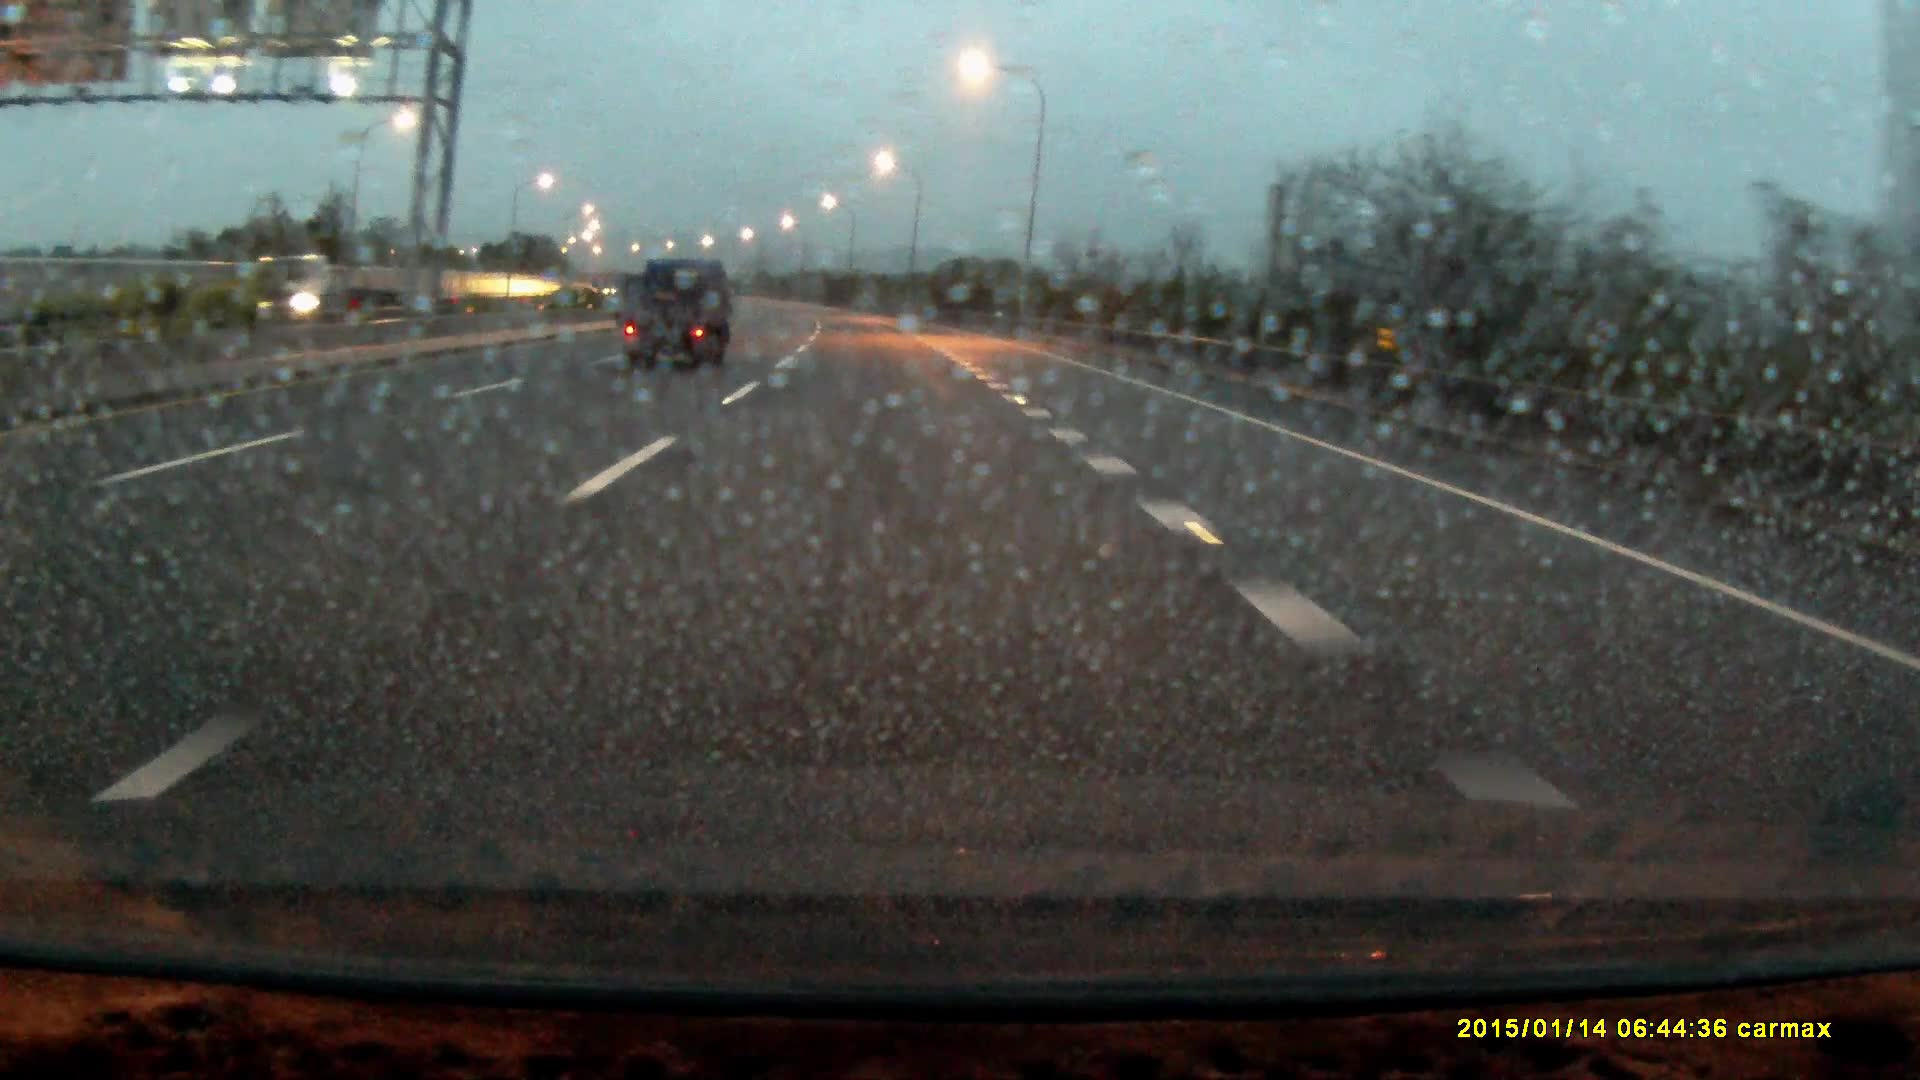vehicle: (622, 262, 736, 378), (252, 253, 396, 323)
